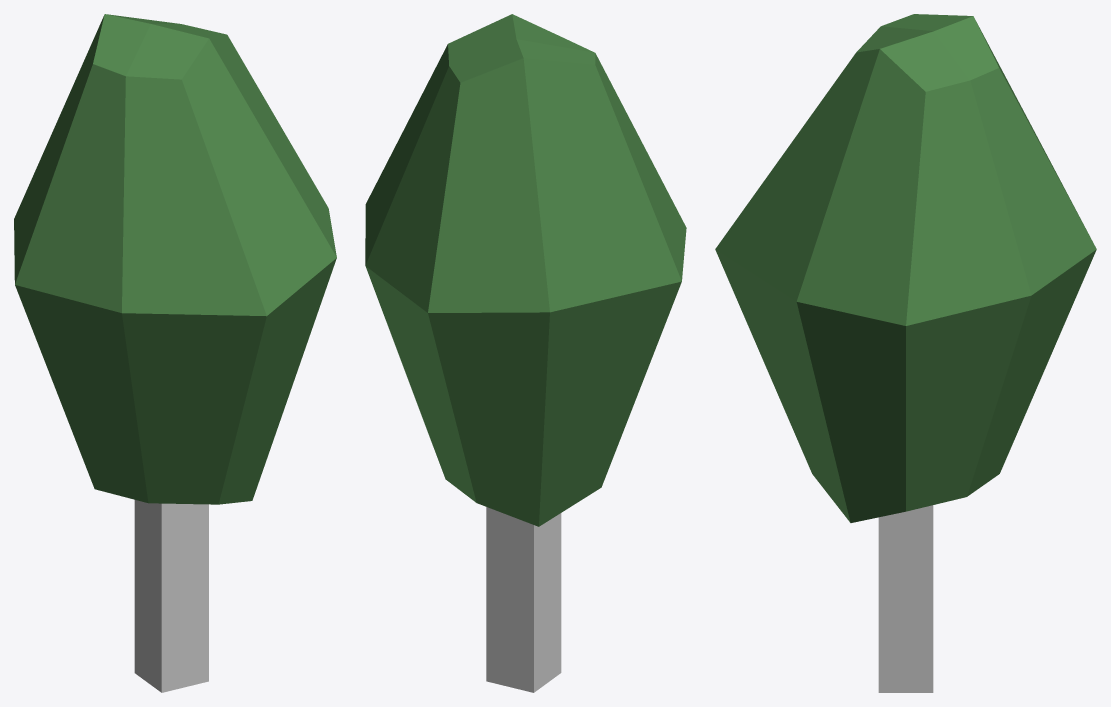
The model's file is Birch.fbx.
3 renders of one model, left to right at view 1: azimuth 30°, elevation 25°; view 2: azimuth 150°, elevation 25°; view 3: azimuth 270°, elevation 25°, orthographic.
Parts seen in each view (by area): view 1: Birch1; view 2: Birch1; view 3: Birch1.
Boxes of the visible parts, <box> form: Birch1: <box>14,14,336,692</box>; Birch1: <box>365,14,686,692</box>; Birch1: <box>715,14,1096,692</box>.
Bounding box in the file's own units: 0.193 × 0.3802 × 0.2026.
